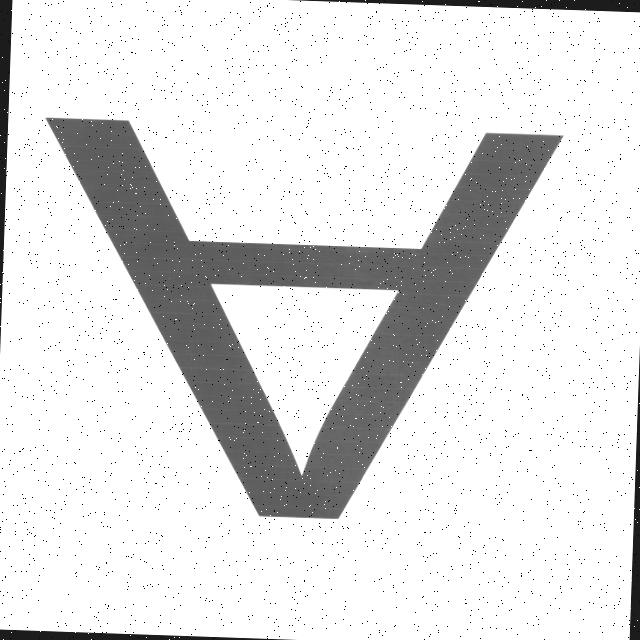a: (0, 79, 578, 563)
